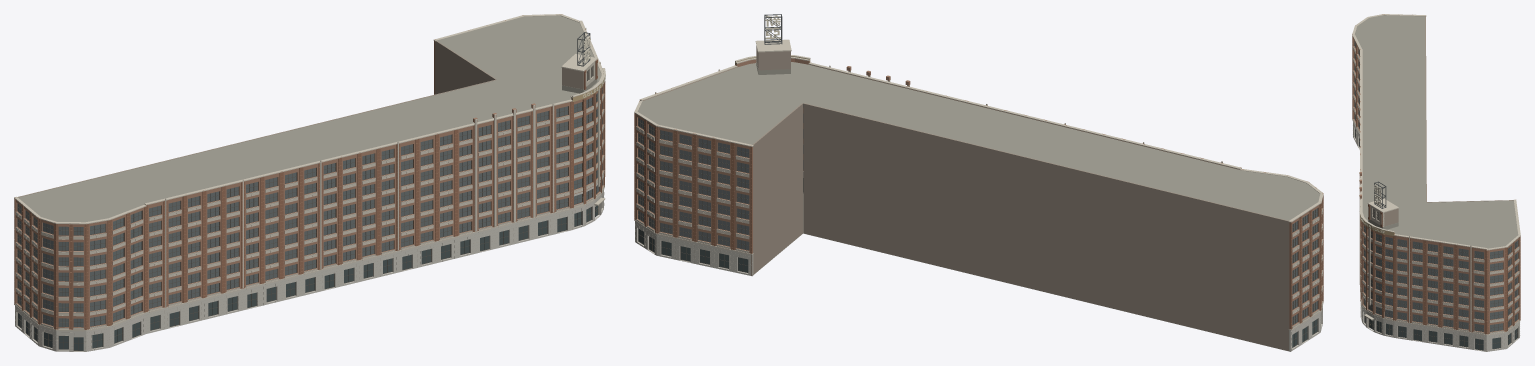
Rendered from hongkou-new-asia-hotel-web.glb.
3 renders of one model, left to right at view 1: azimuth 30°, elevation 25°; view 2: azimuth 150°, elevation 25°; view 3: azimuth 270°, elevation 25°, orthographic. The views are drawn at different scales.
Visible parts, largest first — view 1: 新亚酒楼（上海新亚大酒店临街主楼）; view 2: 新亚酒楼（上海新亚大酒店临街主楼）; view 3: 新亚酒楼（上海新亚大酒店临街主楼）.
Part boxes in pixels (x1=…): 新亚酒楼（上海新亚大酒店临街主楼）: x1=14, y1=14, x2=605, y2=351; 新亚酒楼（上海新亚大酒店临街主楼）: x1=634, y1=14, x2=1323, y2=351; 新亚酒楼（上海新亚大酒店临街主楼）: x1=1352, y1=14, x2=1520, y2=351.
Size of the model in its own units: 132 by 37.26 by 39.94.
